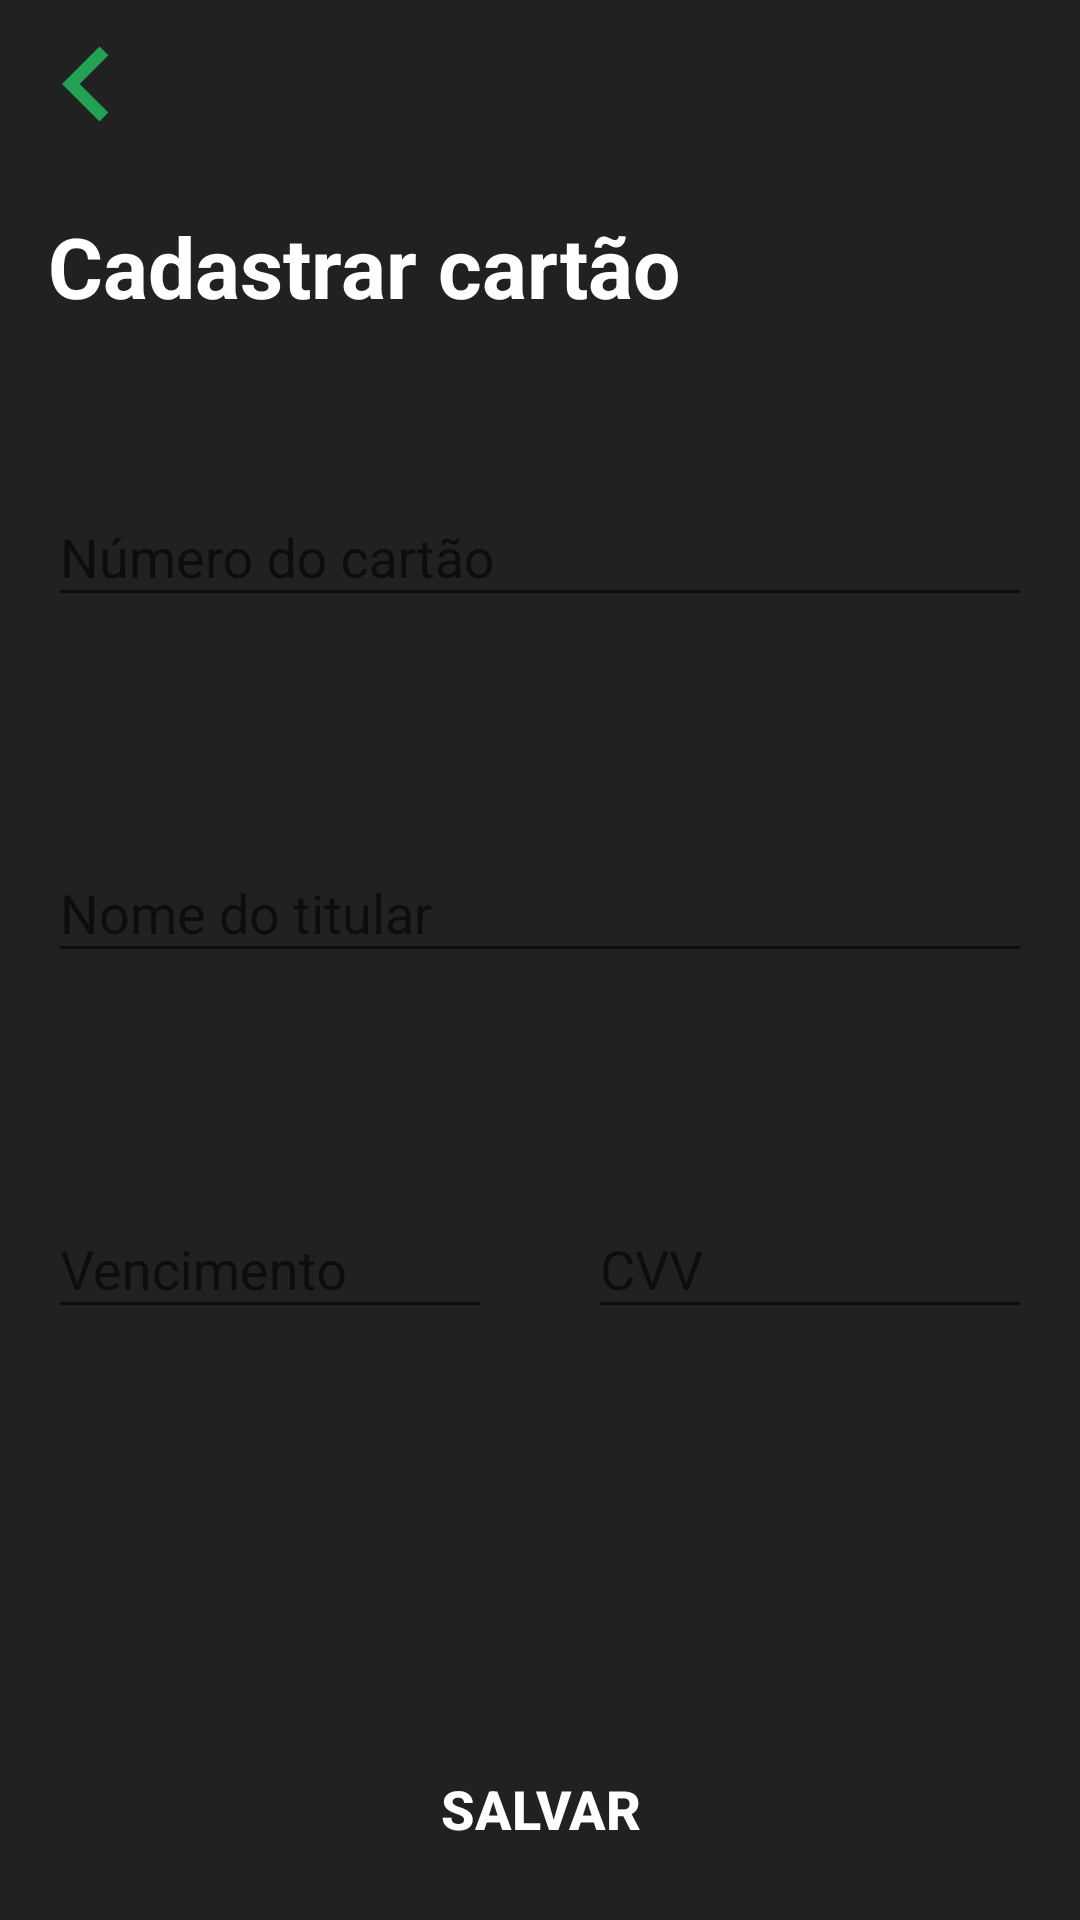

Named icons in this screenshot (1080×1920) and their centers, [x,y]:
arrow: [85,84]
